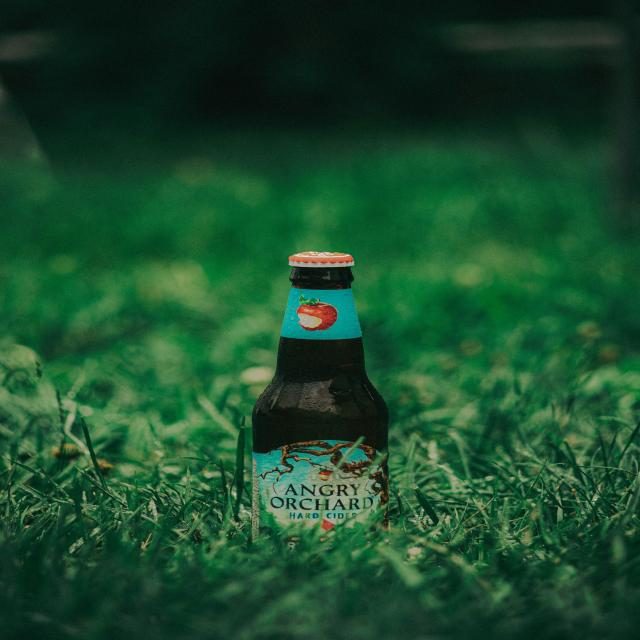Bottle: (253, 252, 388, 536)
